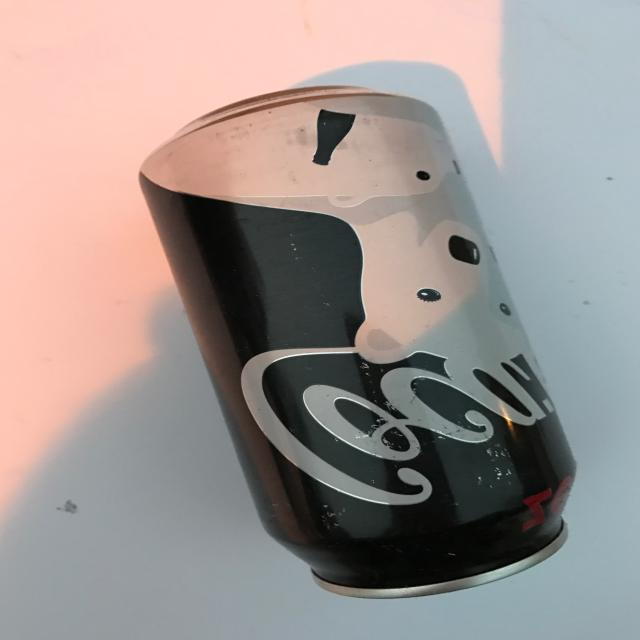metal: (138, 79, 577, 599)
